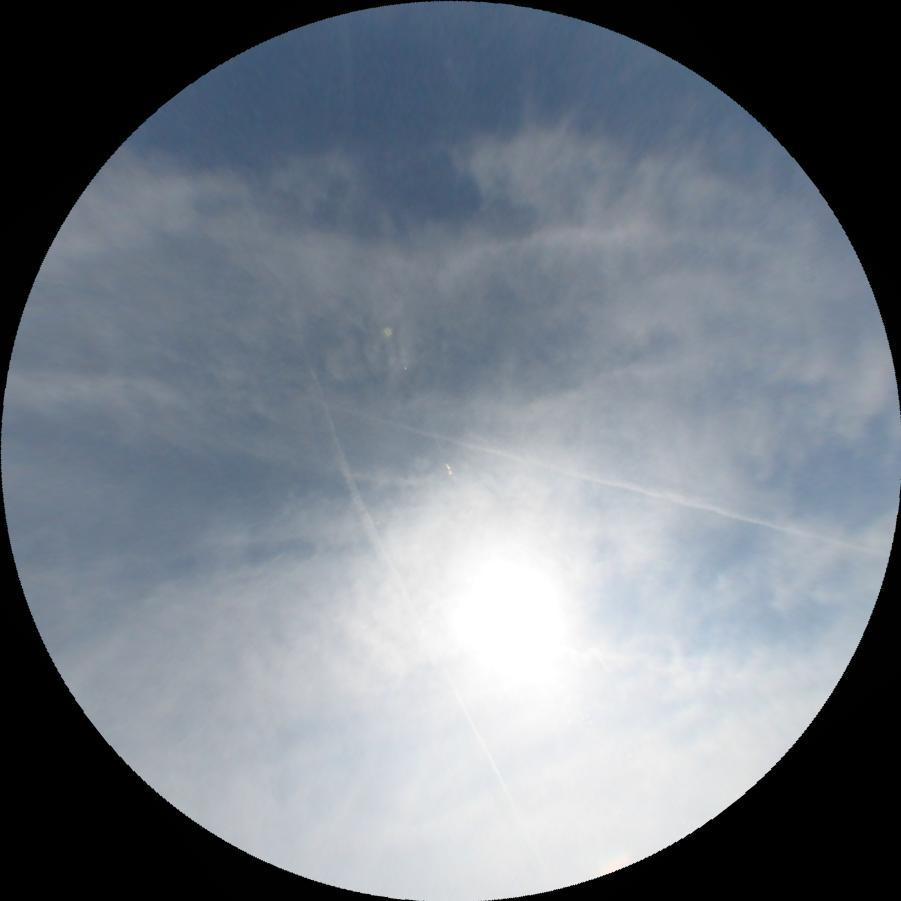contrail old: (292, 365, 526, 827), (312, 394, 888, 558)
sun: (433, 543, 593, 700)
